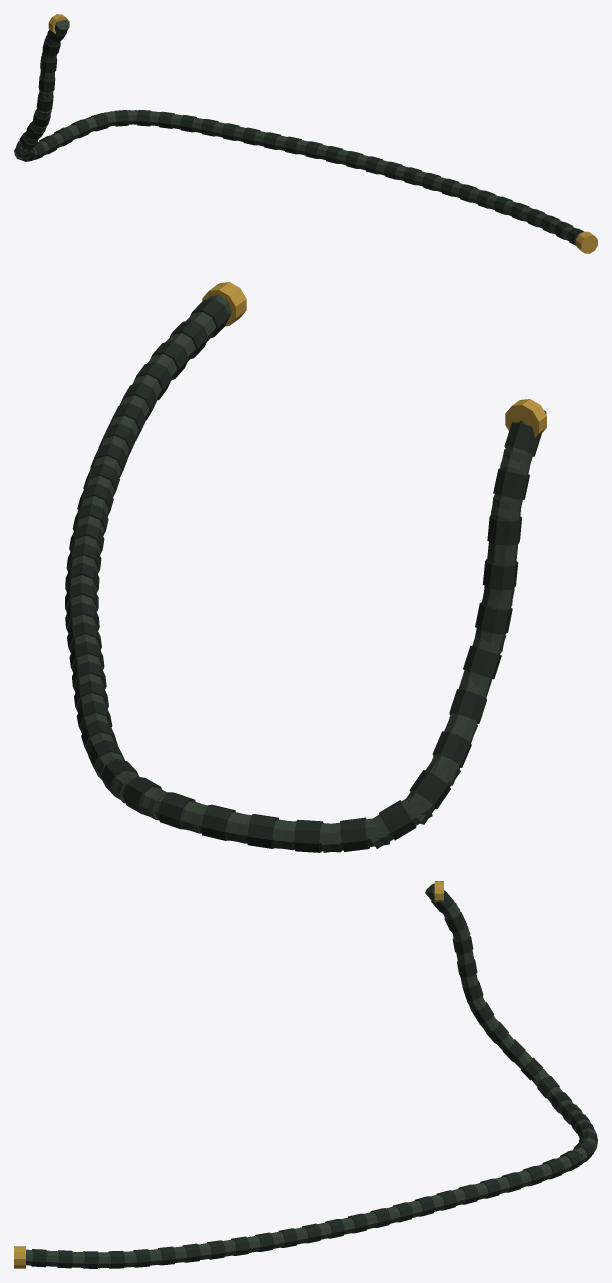
Rendered from lwf_honey_wagon_hose_v1.glb.
3 renders of one model, top to bottom at view 1: azimuth 30°, elevation 25°; view 2: azimuth 150°, elevation 25°; view 3: azimuth 270°, elevation 25°, orthographic. The views are drawn at different scales.
Parts seen in each view (by area): view 1: LWF_Hose_Coupling, LWF_Hose_Seg_22, LWF_Hose_Seg_21, LWF_Hose_Seg_16, LWF_Hose_Seg_23, LWF_Hose_Seg_17, LWF_Hose_Seg_18, LWF_Hose_Seg_00, LWF_Hose_Seg_19, LWF_Hose_Seg_15, LWF_Hose_Seg_20, LWF_Hose_Seg_24 (+11 smaller); view 2: LWF_Hose_Seg_08, LWF_Hose_Seg_01, LWF_Hose_Seg_02, LWF_Hose_Seg_09, LWF_Hose_Seg_07, LWF_Hose_Seg_12, LWF_Hose_Seg_03, LWF_Hose_Seg_10, LWF_Hose_Seg_13, LWF_Hose_Seg_11, LWF_Hose_Seg_04, LWF_Hose_Seg_05 (+16 smaller); view 3: no part large enough to name.
Part boxes in pixels (bbox=[...]): LWF_Hose_Coupling: bbox=[575, 231, 597, 253]; LWF_Hose_Seg_22: bbox=[254, 131, 287, 150]; LWF_Hose_Seg_21: bbox=[238, 126, 266, 146]; LWF_Hose_Seg_16: bbox=[128, 110, 160, 126]; LWF_Hose_Seg_23: bbox=[275, 135, 308, 154]; LWF_Hose_Seg_17: bbox=[151, 111, 182, 128]; LWF_Hose_Seg_18: bbox=[174, 114, 204, 132]; LWF_Hose_Seg_00: bbox=[45, 19, 69, 43]; LWF_Hose_Seg_19: bbox=[196, 118, 225, 136]; LWF_Hose_Seg_15: bbox=[104, 110, 137, 126]; LWF_Hose_Seg_20: bbox=[216, 122, 245, 140]; LWF_Hose_Seg_24: bbox=[300, 140, 328, 159]; LWF_Hose_Seg_08: bbox=[405, 759, 460, 824]; LWF_Hose_Seg_01: bbox=[490, 449, 531, 519]; LWF_Hose_Seg_02: bbox=[487, 495, 521, 564]; LWF_Hose_Seg_09: bbox=[366, 797, 432, 848]; LWF_Hose_Seg_07: bbox=[429, 720, 477, 785]; LWF_Hose_Seg_12: bbox=[227, 813, 293, 850]; LWF_Hose_Seg_03: bbox=[483, 543, 518, 609]; LWF_Hose_Seg_10: bbox=[320, 817, 389, 852]; LWF_Hose_Seg_13: bbox=[183, 802, 250, 843]; LWF_Hose_Seg_11: bbox=[274, 819, 341, 852]; LWF_Hose_Seg_04: bbox=[475, 588, 514, 653]; LWF_Hose_Seg_05: bbox=[458, 634, 506, 697].
Size of the model in its own units: 3.02 by 1.56 by 3.86.
Materials: 1 (1 with a texture image).
